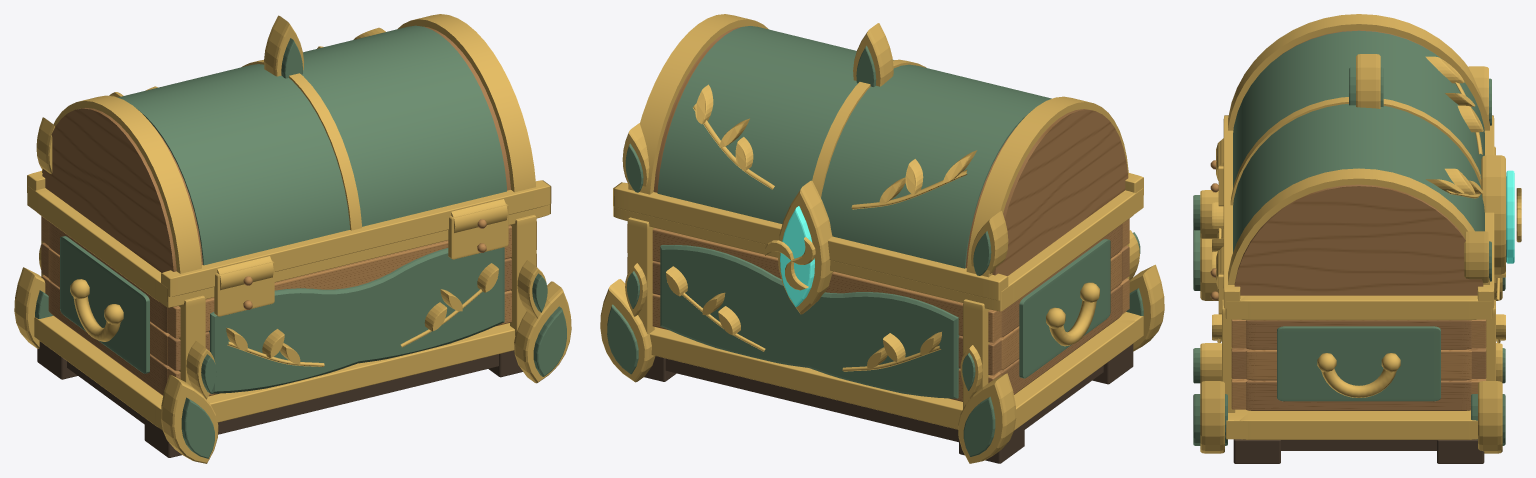
File: treasure-chest.glb
3 renders of one model, left to right at view 1: azimuth 30°, elevation 25°; view 2: azimuth 150°, elevation 25°; view 3: azimuth 270°, elevation 25°, orthographic. The views are drawn at different scales.
Visible parts, largest first — view 1: lid, chest-body; view 2: lid, chest-body; view 3: lid, chest-body.
Boxes of the visible parts, x1,y1,x2,y2 form: lid: (27,14,551,296); chest-body: (14,186,571,463); lid: (613,14,1143,314); chest-body: (600,188,1164,463); lid: (1223,14,1521,308); chest-body: (1193,138,1505,463).
Size of the model in its own units: 2.59 by 2.12 by 1.94.
Materials: 7 (2 with a texture image).
